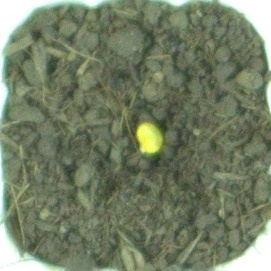chilli seed: (133, 119, 165, 154)
